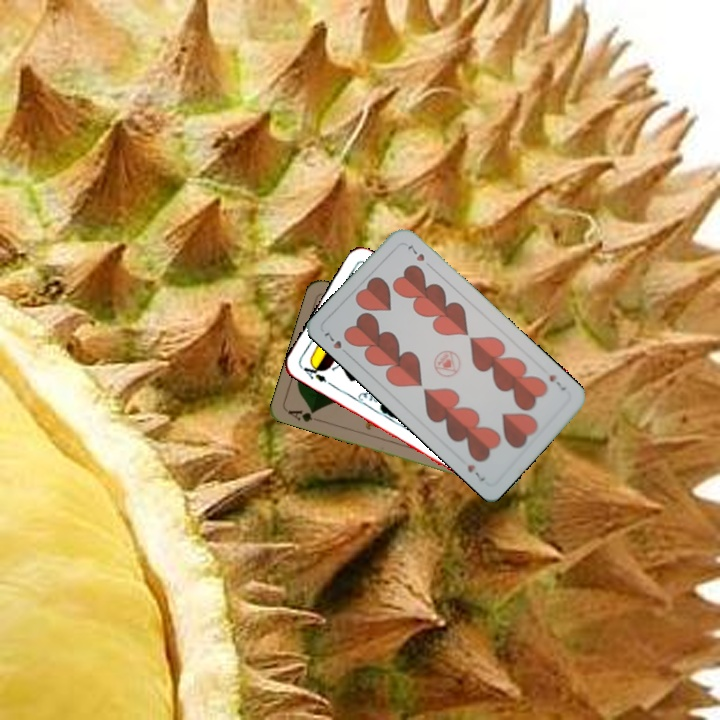EA: (297, 359, 330, 385)
GA: (283, 406, 323, 425)
H7: (320, 328, 344, 352), (545, 370, 569, 393)
